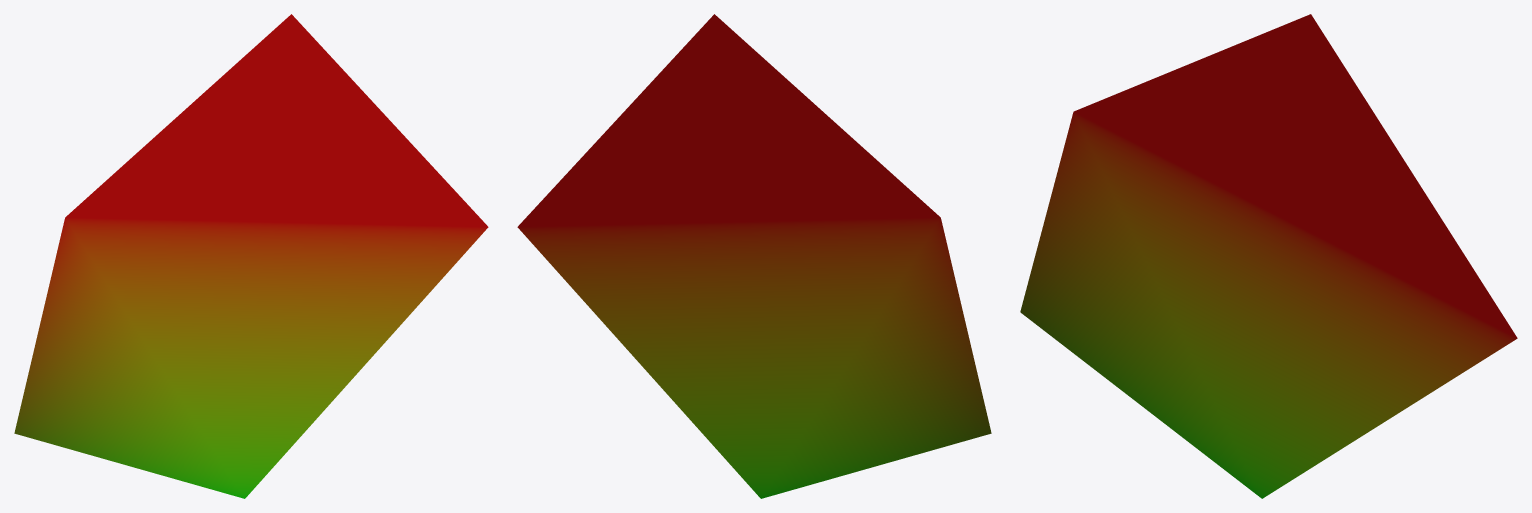
The model's file is Var8_LOD5.fbx.
3 renders of one model, left to right at view 1: azimuth 30°, elevation 25°; view 2: azimuth 150°, elevation 25°; view 3: azimuth 330°, elevation 25°, orthographic. The views are drawn at different scales.
Visible parts, largest first — view 1: _5cd9_Var8_LOD5; view 2: _5cd9_Var8_LOD5; view 3: _5cd9_Var8_LOD5.
Boxes of the visible parts, left/top/right/bottom form: _5cd9_Var8_LOD5: left=14, top=14, right=488, bottom=498; _5cd9_Var8_LOD5: left=517, top=14, right=991, bottom=498; _5cd9_Var8_LOD5: left=1020, top=14, right=1517, bottom=498.
Size of the model in its own units: 24.31 by 23.2 by 5.96e-08.
